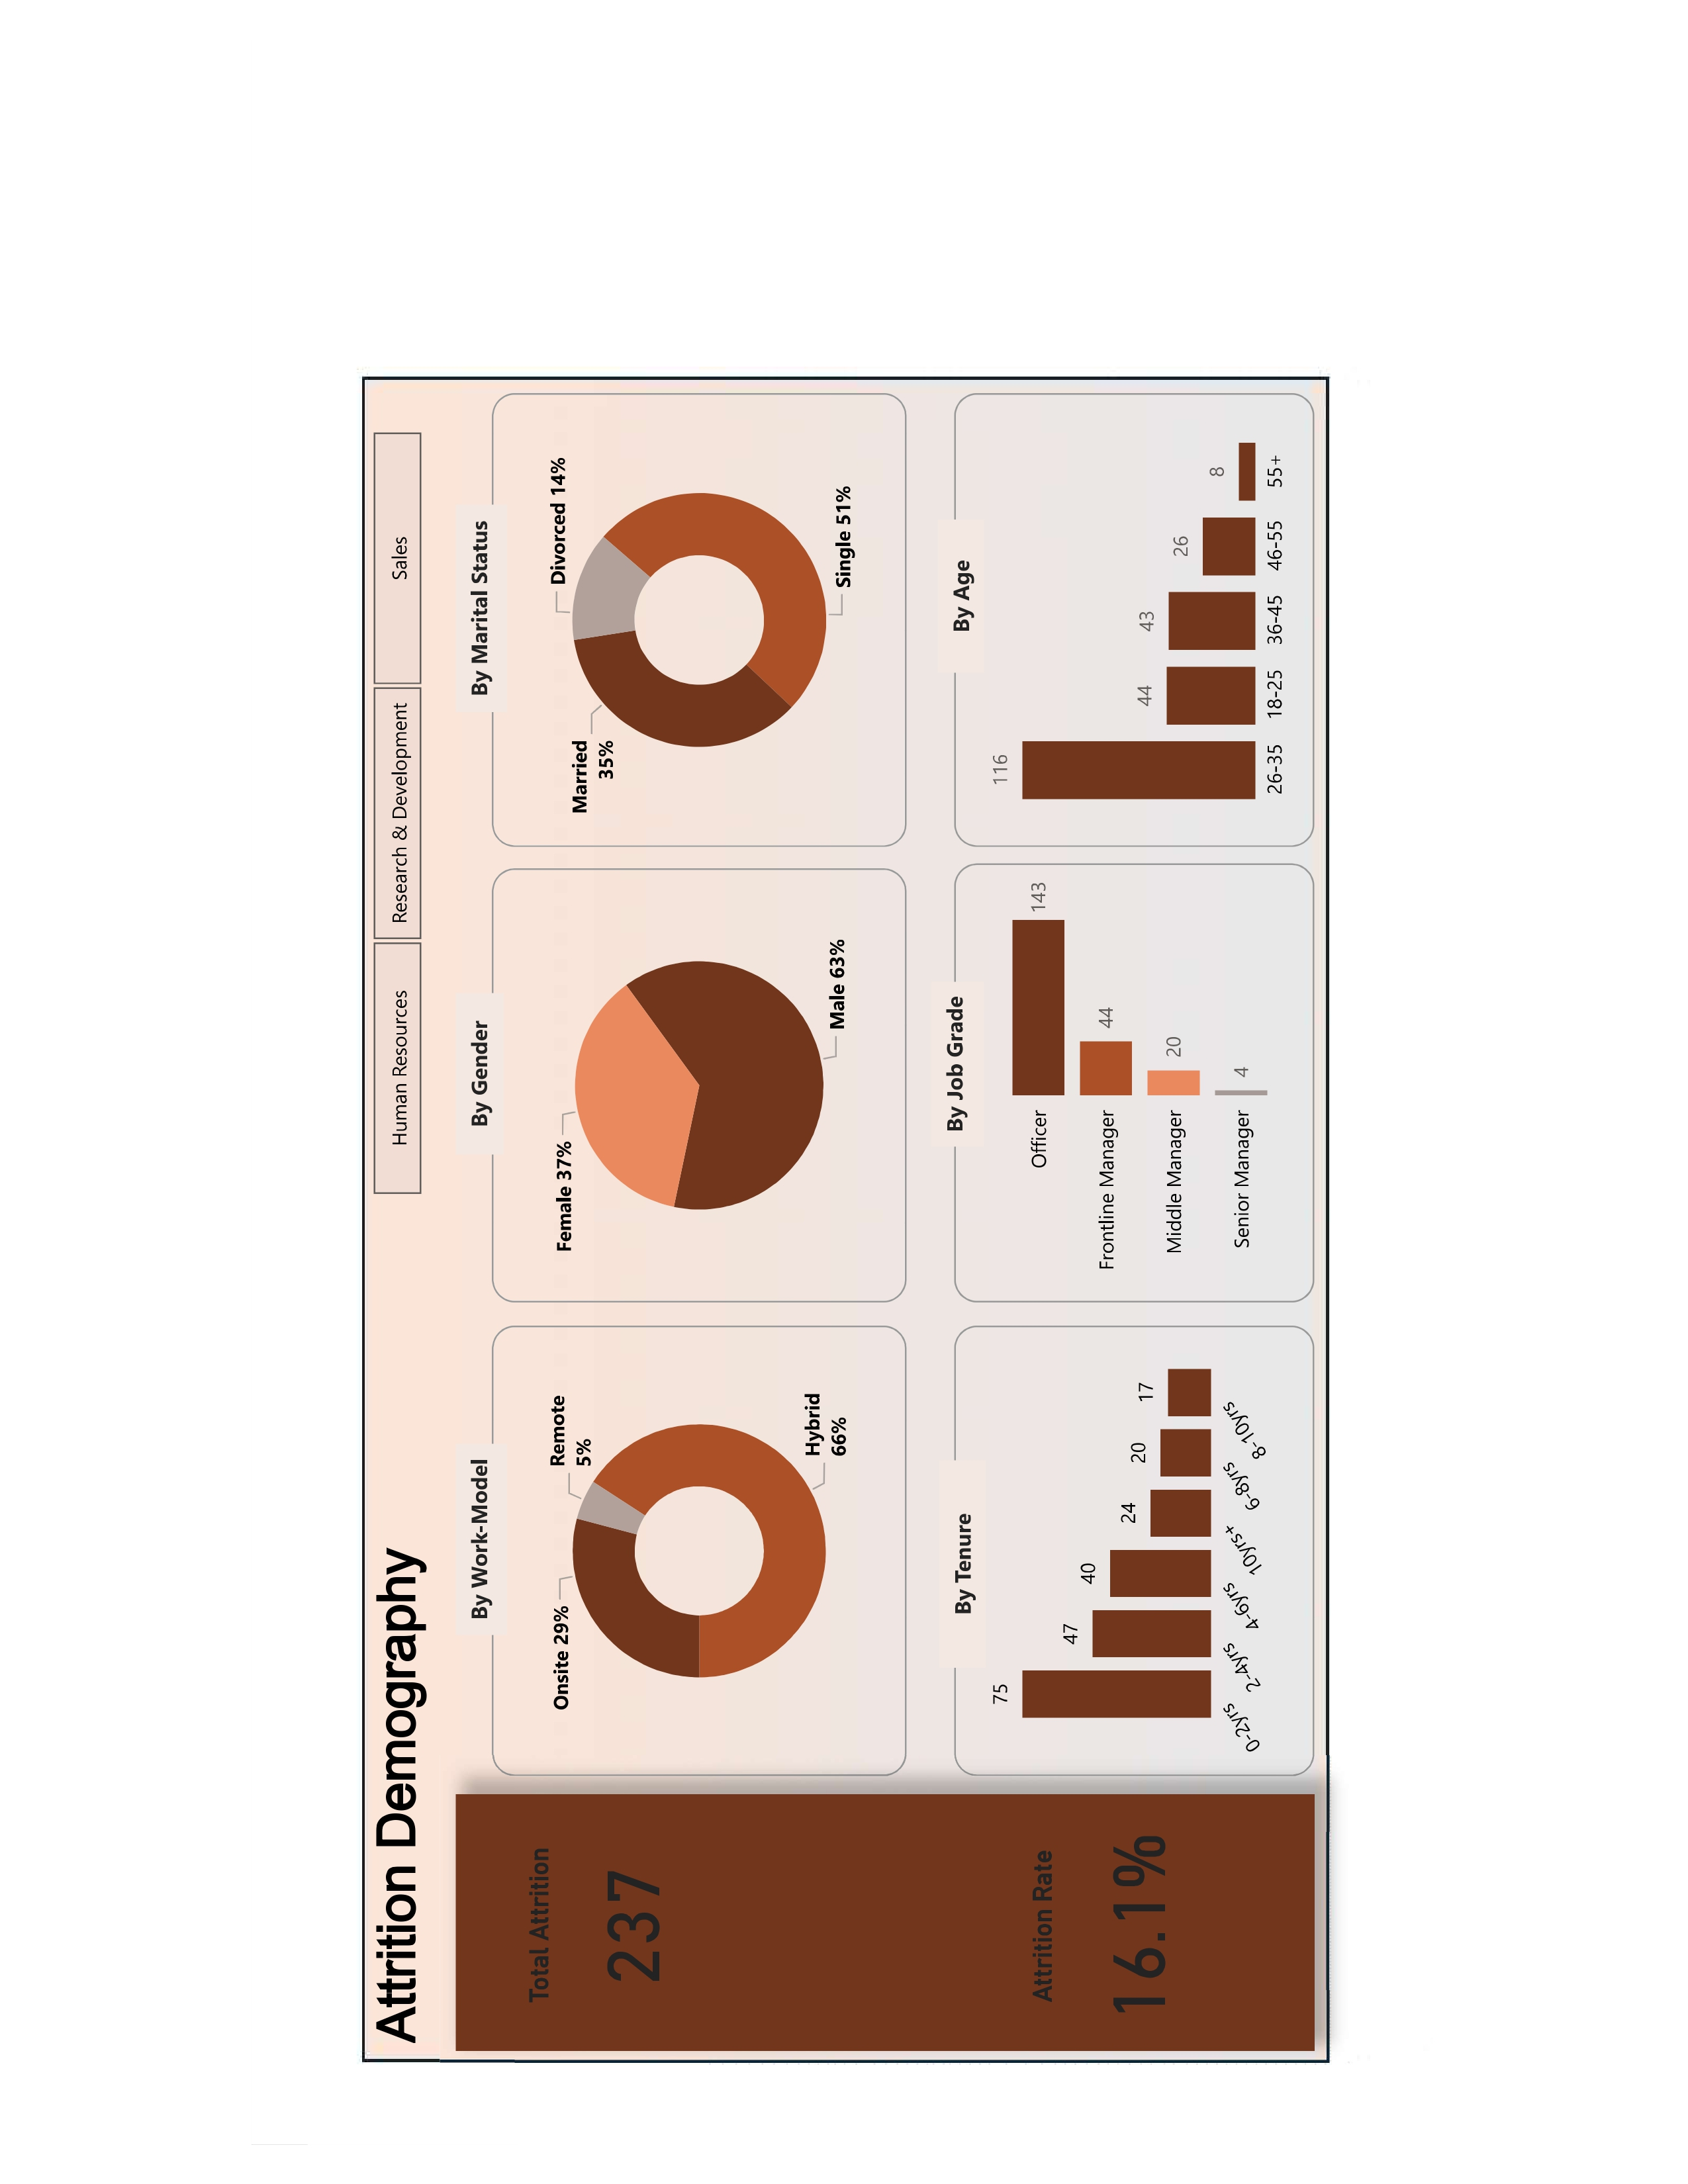

Layout of this report page (visuals, bound fields, positions):
{"tool":"powerbi","page":{"name":"Page 3","canvas":[1280,720],"ordinal":2},"visuals":[{"type":"slicer","title":"Average Tenure","fields":{"Values":["HR_Analytics.Department"]},"box":[552.5,67.1,512.6,42.8],"z":0},{"type":"columnChart","fields":{"Category":["HR_Analytics.AgeGroup"],"Y":["Sum(HR_Analytics.AttritionCount)"]},"box":[788.8,427,276.2,218.8],"z":0,"group":"g7"},{"type":"textbox","box":[57.4,60.3,324.9,56.4],"z":1000},{"type":"donutChart","title":"Attrition by Work-Model","fields":{"Category":["HR_Analytics.WorkModel"],"Y":["Sum(HR_Analytics.AttritionCount)"]},"box":[223.7,145.9,274.3,251.9],"z":1000,"group":"g1"},{"type":"group","id":"g1","title":"Group 2","box":[223.7,123.5,274.3,274.3],"z":2000},{"type":"pieChart","title":"Attrition ","fields":{"Category":["HR_Analytics.Gender"],"Y":["Sum(HR_Analytics.AttritionCount)"]},"box":[511.6,145.9,263.6,251.9],"z":2000,"group":"g2"},{"type":"group","id":"g2","title":"Group 3","box":[511.6,123.5,263.6,274.3],"z":3000},{"type":"donutChart","title":"Attrition ","fields":{"Category":["HR_Analytics.MaritalStatus"],"Y":["Sum(HR_Analytics.AttritionCount)"]},"box":[788.8,145.9,276.2,251.9],"z":3000,"group":"g3"},{"type":"group","id":"g3","title":"Group 4","box":[788.8,123.5,276.2,274.3],"z":4000},{"type":"columnChart","title":"Attrition ","fields":{"Category":["HR_Analytics.Tenure Group"],"Y":["Sum(HR_Analytics.AttritionCount)"]},"box":[223.7,427,274.3,218.8],"z":4000,"group":"g4"},{"type":"group","id":"g4","title":"Group 5","box":[223.7,418.2,274.3,227.6],"z":5000},{"type":"group","id":"g5","title":"Group 6","box":[511.6,412.9,266.5,232.9],"z":6000},{"type":"group","id":"g6","title":"Group 1","box":[895,417,93.4,28.2],"z":6000,"group":"g7"},{"type":"group","id":"g7","title":"Group 7","box":[788.8,417,276.2,228.8],"z":7000},{"type":"group","id":"g8","title":"Group 8","box":[57.4,123.5,155.6,522.3],"z":8000},{"type":"textbox","box":[309.3,123.5,115.7,31.1],"z":8000,"group":"g11"},{"type":"textbox","box":[602.1,123.5,98.2,29.2],"z":8000,"group":"g10"},{"type":"textbox","box":[870.5,123.5,126.4,31.1],"z":8000,"group":"g13"},{"type":"textbox","box":[607,412.9,100.2,32.1],"z":8000,"group":"g9"},{"type":"textbox","box":[895,417,93.4,28.2],"z":8000,"group":"g6"},{"type":"textbox","box":[289.8,418.2,126.4,28.2],"z":8000,"group":"g12"},{"type":"barChart","fields":{"Category":["HR_Analytics.Job Level Grade"],"Y":["Sum(HR_Analytics.AttritionCount)"]},"box":[511.6,427,266.5,218.8],"z":8000,"group":"g5"},{"type":"textbox","box":[57.4,123.5,155.6,522.3],"z":9000,"group":"g8"},{"type":"card","title":"Total Attrition","fields":{"Values":["Sum(HR_Analytics.AttritionCount)"]},"box":[60.9,158,144,118.7],"z":10000,"group":"g8"},{"type":"card","title":"Attrition Rate","fields":{"Values":["HR_Analytics.AttritionRate"]},"box":[59,464.4,146.9,121.6],"z":11000,"group":"g8"},{"type":"group","id":"g9","title":"Group 1","box":[607,412.9,100.2,32.1],"z":12000,"group":"g5"},{"type":"group","id":"g10","title":"Group 1","box":[602.1,123.5,98.2,29.2],"z":13000,"group":"g2"},{"type":"group","id":"g11","title":"Group 1","box":[309.3,123.5,115.7,31.1],"z":14000,"group":"g1"},{"type":"group","id":"g12","title":"Group 1","box":[289.8,418.2,126.4,28.2],"z":15000,"group":"g4"},{"type":"group","id":"g13","title":"Group 1","box":[870.5,123.5,126.4,31.1],"z":16000,"group":"g3"}]}

Visuals, with their boxes on the page's 1280x720 design canvas (x1, y1, x2, y2). These are canvas units, not pixel positions in the 1688x2184 screenshot, which may show the page scaled, cropped or inside an application window:
"Average Tenure" slicer: select_region(552, 67, 1065, 110)
columnChart - HR_Analytics.AgeGroup x Sum(HR_Analytics.AttritionCount): select_region(789, 427, 1065, 646)
textbox: select_region(57, 60, 382, 117)
"Attrition by Work-Model" donutChart: select_region(224, 146, 498, 398)
"Group 2" group: select_region(224, 124, 498, 398)
"Attrition " pieChart: select_region(512, 146, 775, 398)
"Group 3" group: select_region(512, 124, 775, 398)
"Attrition " donutChart: select_region(789, 146, 1065, 398)
"Group 4" group: select_region(789, 124, 1065, 398)
"Attrition " columnChart: select_region(224, 427, 498, 646)
"Group 5" group: select_region(224, 418, 498, 646)
"Group 6" group: select_region(512, 413, 778, 646)
"Group 1" group: select_region(895, 417, 988, 445)
"Group 7" group: select_region(789, 417, 1065, 646)
"Group 8" group: select_region(57, 124, 213, 646)
textbox: select_region(309, 124, 425, 155)
textbox: select_region(602, 124, 700, 153)
textbox: select_region(870, 124, 997, 155)
textbox: select_region(607, 413, 707, 445)
textbox: select_region(895, 417, 988, 445)
textbox: select_region(290, 418, 416, 446)
barChart - HR_Analytics.Job Level Grade x Sum(HR_Analytics.AttritionCount): select_region(512, 427, 778, 646)
textbox: select_region(57, 124, 213, 646)
"Total Attrition" card: select_region(61, 158, 205, 277)
"Attrition Rate" card: select_region(59, 464, 206, 586)
"Group 1" group: select_region(607, 413, 707, 445)
"Group 1" group: select_region(602, 124, 700, 153)
"Group 1" group: select_region(309, 124, 425, 155)
"Group 1" group: select_region(290, 418, 416, 446)
"Group 1" group: select_region(870, 124, 997, 155)
